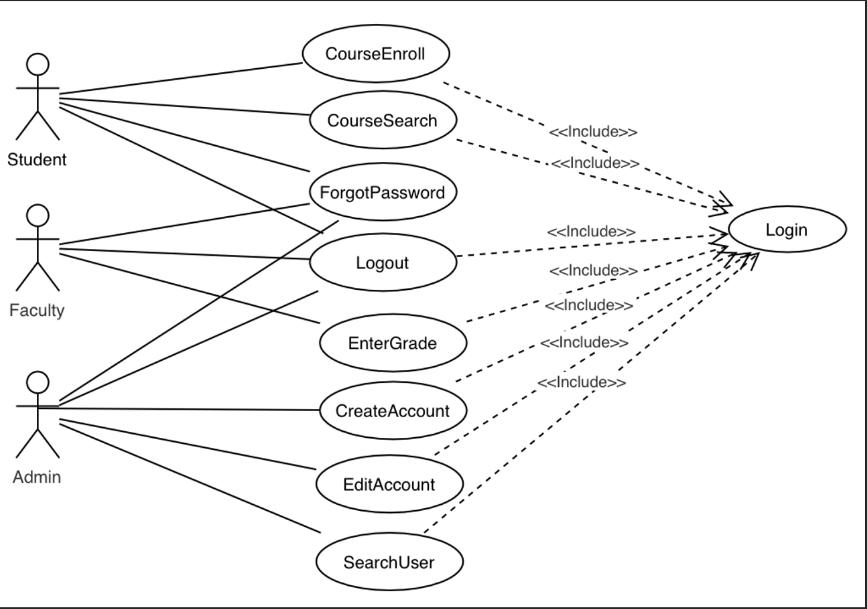actor: (17, 369, 61, 462), (16, 202, 60, 293), (16, 51, 59, 142)
association: (423, 251, 760, 534), (436, 250, 751, 454), (60, 221, 336, 401), (456, 249, 736, 382), (445, 80, 732, 205), (59, 108, 322, 233), (57, 422, 322, 534), (61, 290, 319, 404), (456, 137, 729, 219), (465, 243, 728, 322), (61, 252, 318, 323), (61, 101, 313, 173), (59, 414, 317, 470), (60, 202, 307, 244), (457, 225, 726, 258), (58, 61, 300, 95), (61, 96, 311, 116), (59, 400, 319, 419), (60, 245, 309, 261)
text: (317, 181, 446, 203), (322, 110, 444, 132), (319, 42, 433, 65), (335, 401, 451, 422), (342, 471, 439, 496), (347, 248, 424, 276), (344, 332, 439, 354), (547, 122, 641, 144), (340, 553, 437, 574), (547, 152, 643, 173), (533, 372, 631, 392), (543, 294, 632, 316), (535, 334, 630, 353), (6, 298, 70, 324), (547, 224, 640, 240), (758, 219, 816, 244), (6, 148, 69, 171), (544, 264, 638, 278), (9, 466, 63, 487)
use_case: (314, 451, 466, 516), (308, 88, 459, 152), (308, 231, 459, 294), (313, 530, 464, 593), (301, 22, 451, 85), (318, 311, 468, 374), (308, 161, 459, 223), (318, 379, 468, 441), (727, 204, 848, 255)
